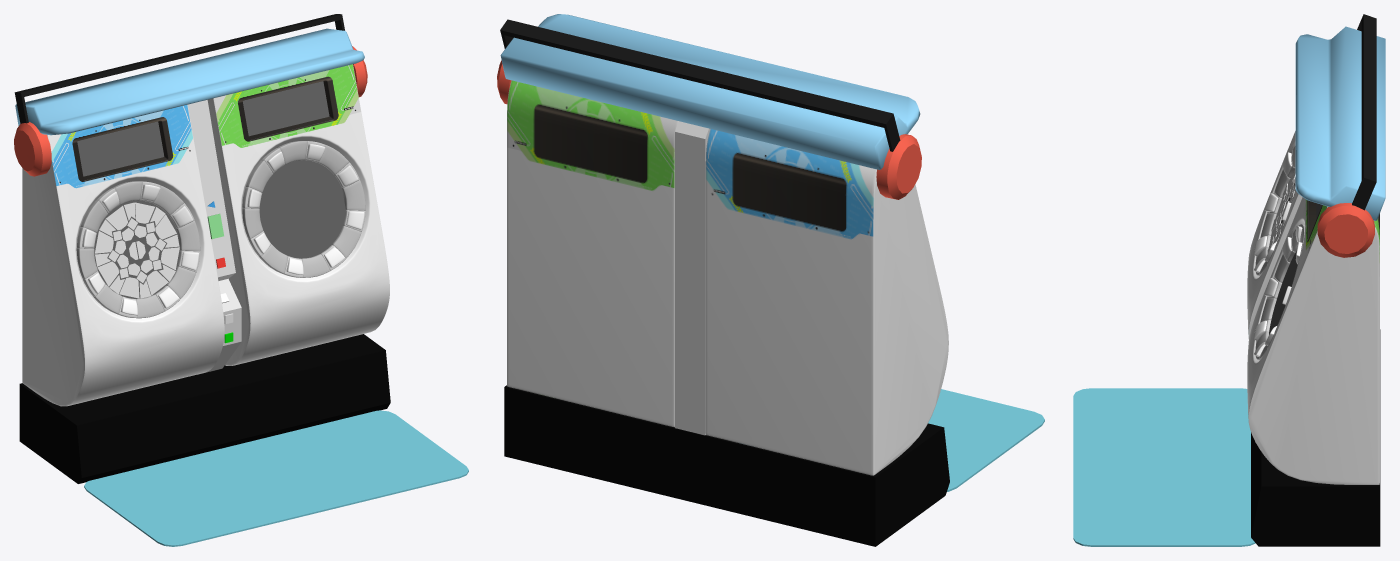
File: DX Unity.fbx
The picture shows the model from 3 angles, left to right: view 1: azimuth 30°, elevation 25°; view 2: azimuth 150°, elevation 25°; view 3: azimuth 270°, elevation 25°; orthographic projection. The views are drawn at different scales.
Visible parts, largest first — view 1: Body P1, Base, GroundPlate, Body P2, Cap, Display P2, Ring, Display P1, Side Box Front, Buttons, HF top, Buttons Base (+1 smaller); view 2: Body P1, Body P2, Base, Cap, Side Box Side, HF top, GroundPlate, HF left; view 3: GroundPlate, Body P2, Cap, Base, HF top, HF left, Body P1, Buttons, Ring, Display P2, Buttons Base.
Part boxes in pixels (left/top/right/bottom): Body P1: left=22, top=104, right=224, bottom=406; Base: left=19, top=334, right=390, bottom=483; GroundPlate: left=84, top=410, right=468, bottom=546; Body P2: left=207, top=64, right=389, bottom=365; Cap: left=15, top=28, right=364, bottom=135; Display P2: left=242, top=81, right=345, bottom=258; Ring: left=76, top=141, right=365, bottom=318; Display P1: left=77, top=121, right=180, bottom=298; Side Box Front: left=187, top=100, right=241, bottom=374; Buttons: left=82, top=144, right=364, bottom=315; HF top: left=14, top=14, right=344, bottom=123; Buttons Base: left=77, top=141, right=365, bottom=317; Body P1: left=705, top=129, right=948, bottom=475; Body P2: left=507, top=80, right=678, bottom=427; Base: left=504, top=385, right=949, bottom=546; Cap: left=500, top=14, right=920, bottom=169; Side Box Side: left=675, top=121, right=709, bottom=435; HF top: left=500, top=19, right=900, bottom=151; GroundPlate: left=928, top=389, right=1044, bottom=491; HF left: left=497, top=60, right=921, bottom=199; GroundPlate: left=1073, top=388, right=1255, bottom=546; Body P2: left=1247, top=197, right=1379, bottom=484; Cap: left=1295, top=26, right=1385, bottom=220; Base: left=1251, top=329, right=1380, bottom=546; HF top: left=1352, top=14, right=1376, bottom=210; HF left: left=1317, top=203, right=1374, bottom=257; Body P1: left=1247, top=131, right=1302, bottom=338; Buttons: left=1254, top=152, right=1302, bottom=356; Ring: left=1255, top=146, right=1304, bottom=359; Display P2: left=1269, top=203, right=1321, bottom=334; Buttons Base: left=1256, top=150, right=1304, bottom=360.
Size of what is drawn, in the model's own units: 207 by 212 by 161.
